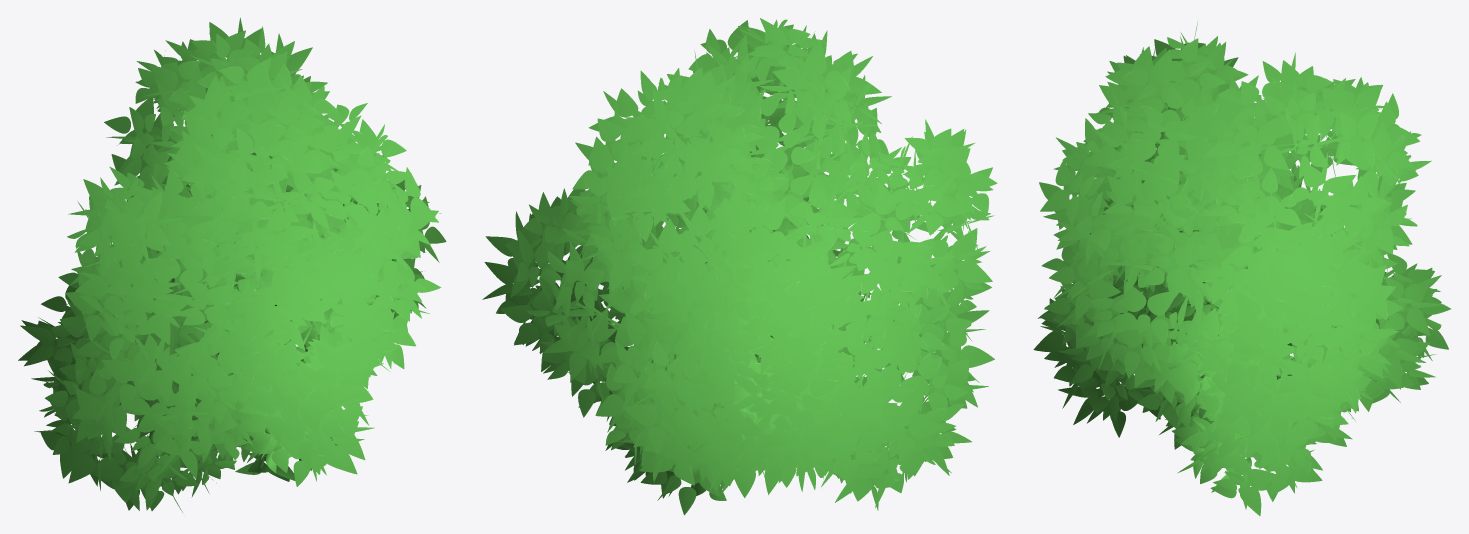
Rendered from tree2LoD1.fbx.
3 views of the same model, side by side, from view 1: azimuth 30°, elevation 25°; view 2: azimuth 150°, elevation 25°; view 3: azimuth 270°, elevation 25° (orthographic). The views are drawn at different scales.
Parts seen in each view (by area): view 1: Hoja.007; view 2: Hoja.007; view 3: Hoja.007.
Part boxes in pixels (<box>): Hoja.007: <box>18,17,446,512</box>; Hoja.007: <box>482,18,997,515</box>; Hoja.007: <box>1033,21,1450,515</box>.
Size of the model in its own units: 400 by 414 by 350.
